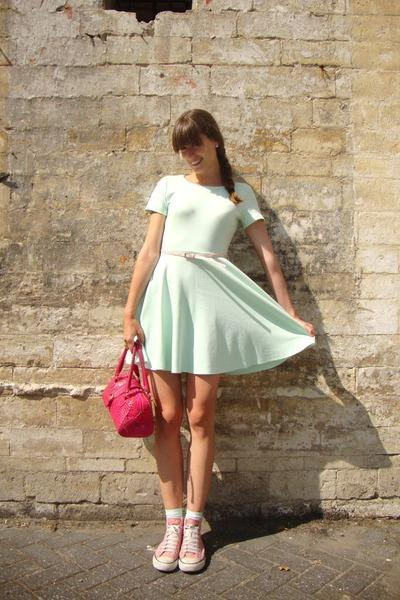bag: (93, 356, 166, 437)
dress: (140, 175, 314, 373)
shoe: (147, 529, 204, 570)
